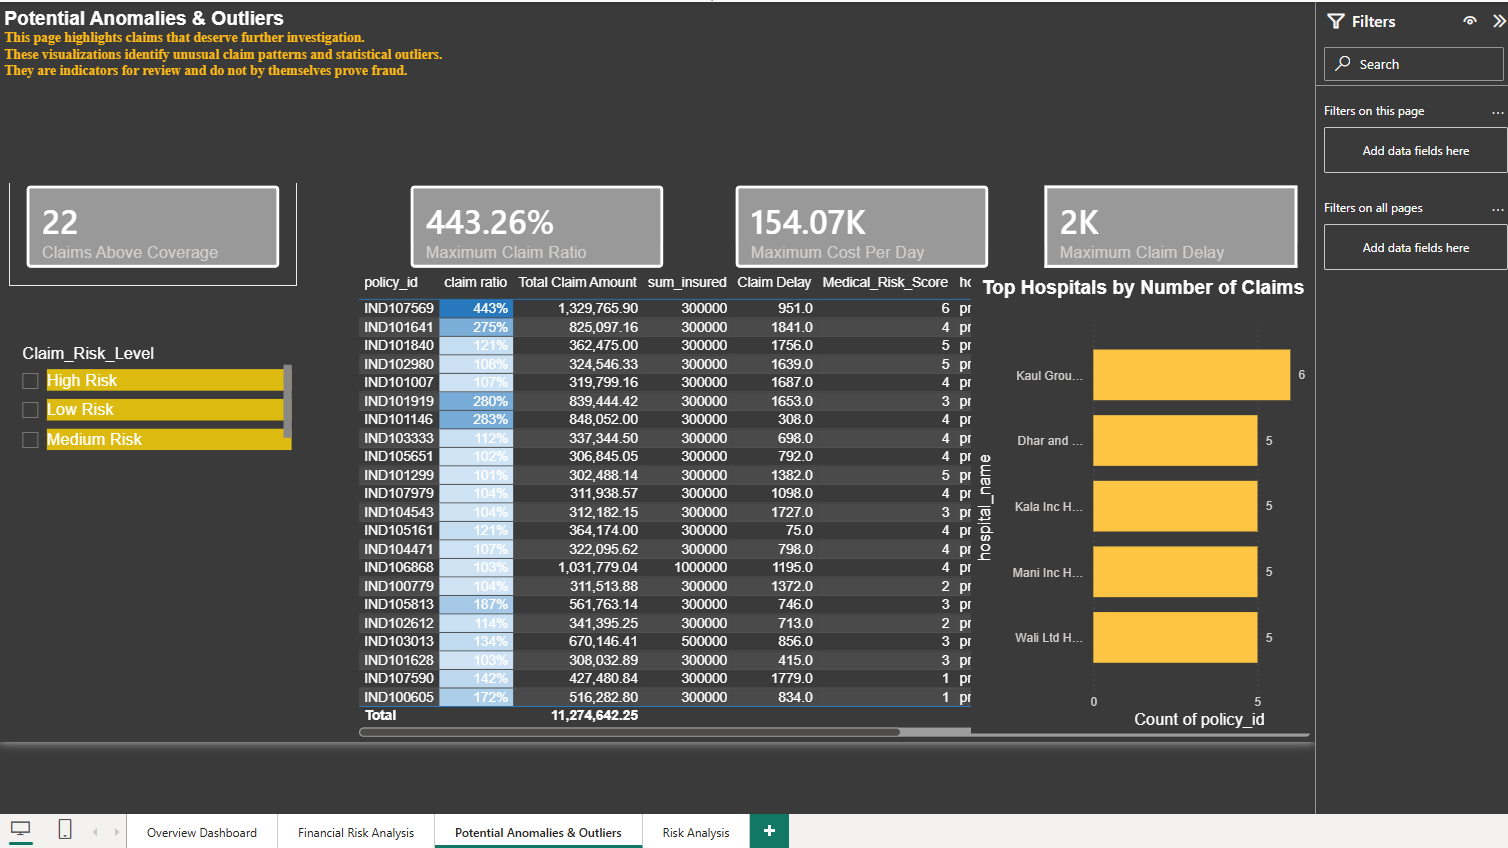

This screenshot's page, from the dashboard's own definition file:
{"tool":"powerbi","page":{"name":"Potential Anomalies & Outliers","canvas":[1280,720],"ordinal":2},"visuals":[{"type":"cardVisual","fields":{"Data":["claims.Claims Above Coverage"]},"box":[9.7,161.5,280.1,114.8],"z":0},{"type":"cardVisual","fields":{"Data":["claims.Maximum Claim Ratio"]},"box":[383.2,161.5,280.1,114.8],"z":1000},{"type":"cardVisual","fields":{"Data":["claims.Maximum Cost Per Day"]},"box":[699.3,161.5,280.1,114.8],"z":2000},{"type":"cardVisual","fields":{"Data":["claims.Maximum Claim Delay"]},"box":[999.9,161.5,280.1,114.8],"z":3000},{"type":"tableEx","fields":{"Values":["claims.policy_id","claims.claim ratio","claims.Total Claim Amount","claims.sum_insured","claims.Claim Delay","claims.Medical_Risk_Score","claims.hospital_tier","claims.hospital_name","Avg(claims.Overall_Claim_Risk_Score)","claims.Claim_Risk_Level1","claims.Anomaly_Level","Avg(claims.Anomaly_Count)"]},"box":[344.3,258.7,935.7,461],"z":4000},{"type":"textbox","box":[0,0,1258.6,176],"z":5000},{"type":"clusteredBarChart","title":"Top Hospitals by Number of Claims","fields":{"Category":["claims.hospital_name"],"Y":["CountNonNull(claims.policy_id)"]},"box":[945.4,267.5,334.6,443.5],"z":6000},{"type":"slicer","fields":{"Values":["claims.Claim_Risk_Level"]},"box":[9.7,327.8,280.1,112.8],"z":7000}]}

Visuals, with their boxes on the page's 1280x720 design canvas (x1, y1, x2, y2). These are canvas units, not pixel positions in the 1508x848 screenshot, which may show the page scaled, cropped or inside an application window:
cardVisual - claims.Claims Above Coverage: bbox=[10, 162, 290, 276]
cardVisual - claims.Maximum Claim Ratio: bbox=[383, 162, 663, 276]
cardVisual - claims.Maximum Cost Per Day: bbox=[699, 162, 979, 276]
cardVisual - claims.Maximum Claim Delay: bbox=[1000, 162, 1280, 276]
tableEx - claims.policy_id x claims.claim ratio: bbox=[344, 259, 1280, 720]
textbox: bbox=[0, 0, 1259, 176]
"Top Hospitals by Number of Claims" clusteredBarChart: bbox=[945, 268, 1280, 711]
slicer - claims.Claim_Risk_Level: bbox=[10, 328, 290, 441]
